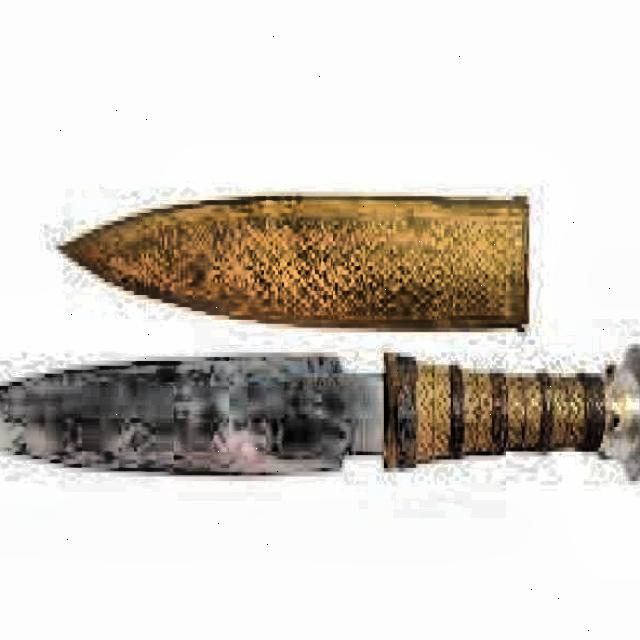knife: (0, 344, 640, 494)
